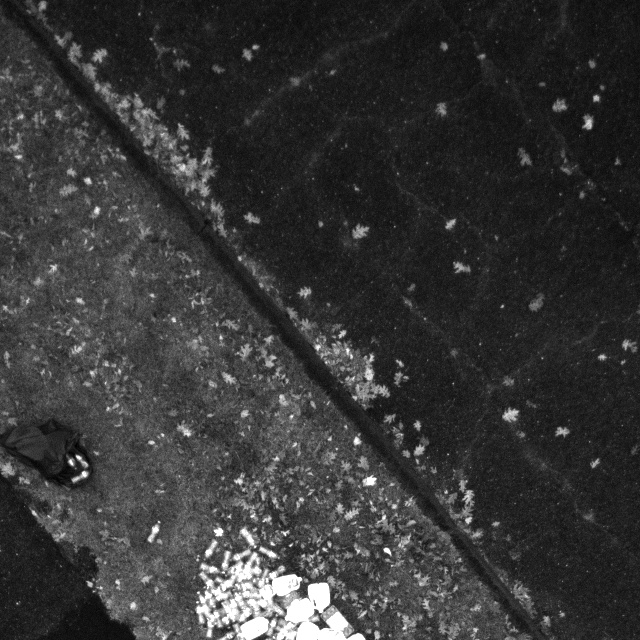bottle: (223, 561, 245, 592), (144, 519, 165, 545), (238, 527, 260, 551), (231, 590, 250, 617), (197, 569, 219, 591), (257, 544, 282, 563), (241, 551, 261, 574), (228, 547, 255, 564), (264, 565, 288, 584), (198, 561, 224, 576), (204, 538, 220, 561), (73, 452, 91, 472), (71, 469, 94, 484), (220, 549, 232, 577), (256, 569, 271, 590), (62, 452, 77, 473), (204, 589, 218, 610)
can: (272, 573, 305, 598)
container: (279, 589, 303, 608), (258, 584, 275, 600)
